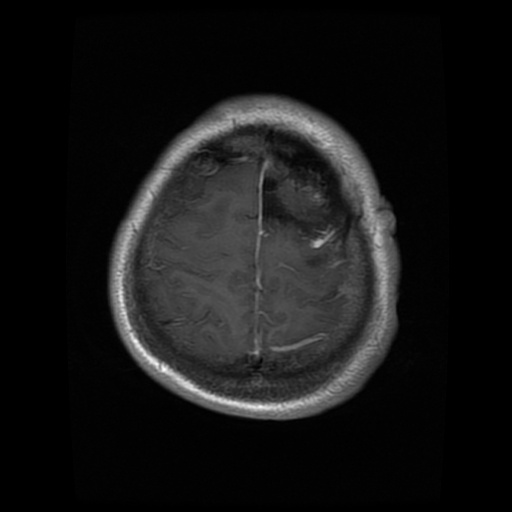glioma: (261, 144, 348, 230)
